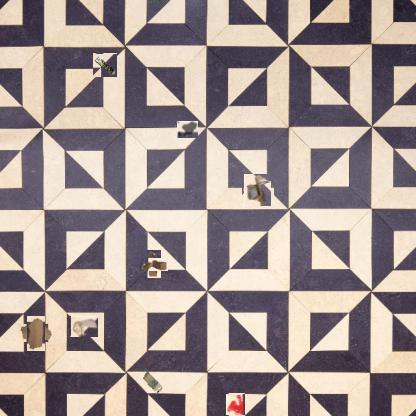dirty: (243, 176, 273, 205), (22, 320, 50, 347), (140, 368, 166, 394), (70, 316, 98, 337), (93, 53, 117, 77), (143, 253, 165, 275)
liquid: (226, 394, 245, 416), (177, 121, 198, 138)
